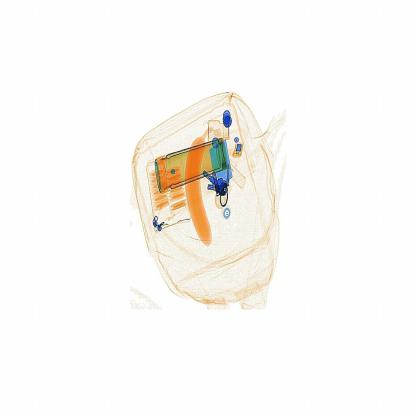wrench: (229, 140, 248, 164)
